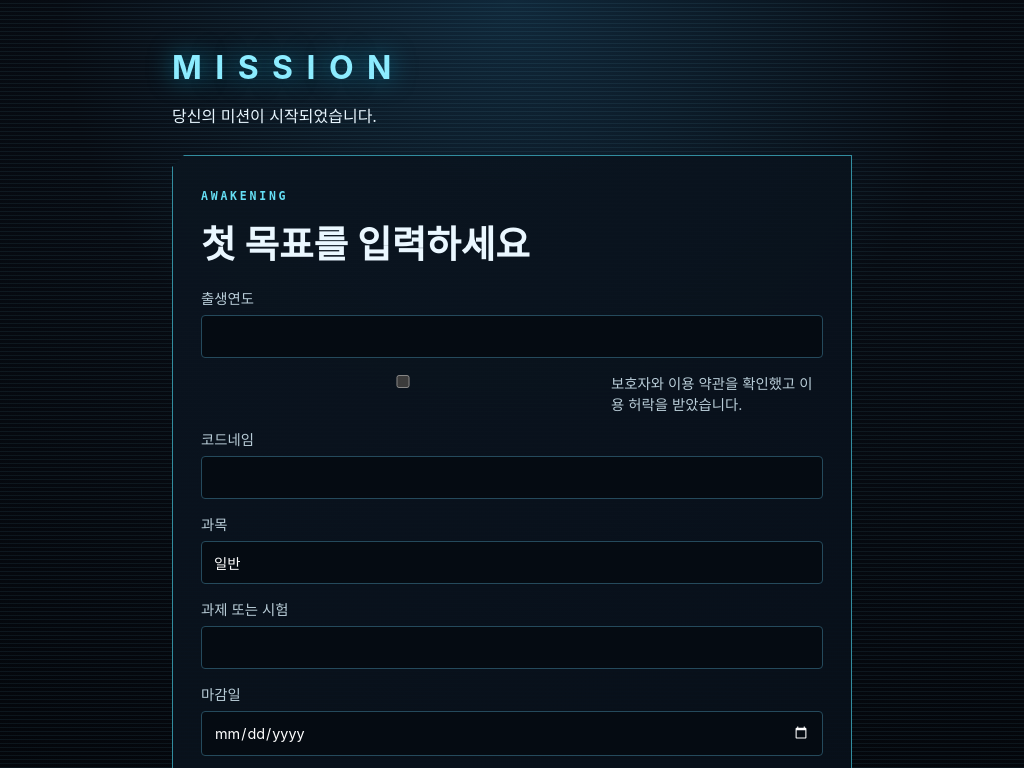
Scenario: preserves goal text and focuses an age error
Type "2011" into the field labelled "출생연도" at (512, 336), box [201,315,823,358]
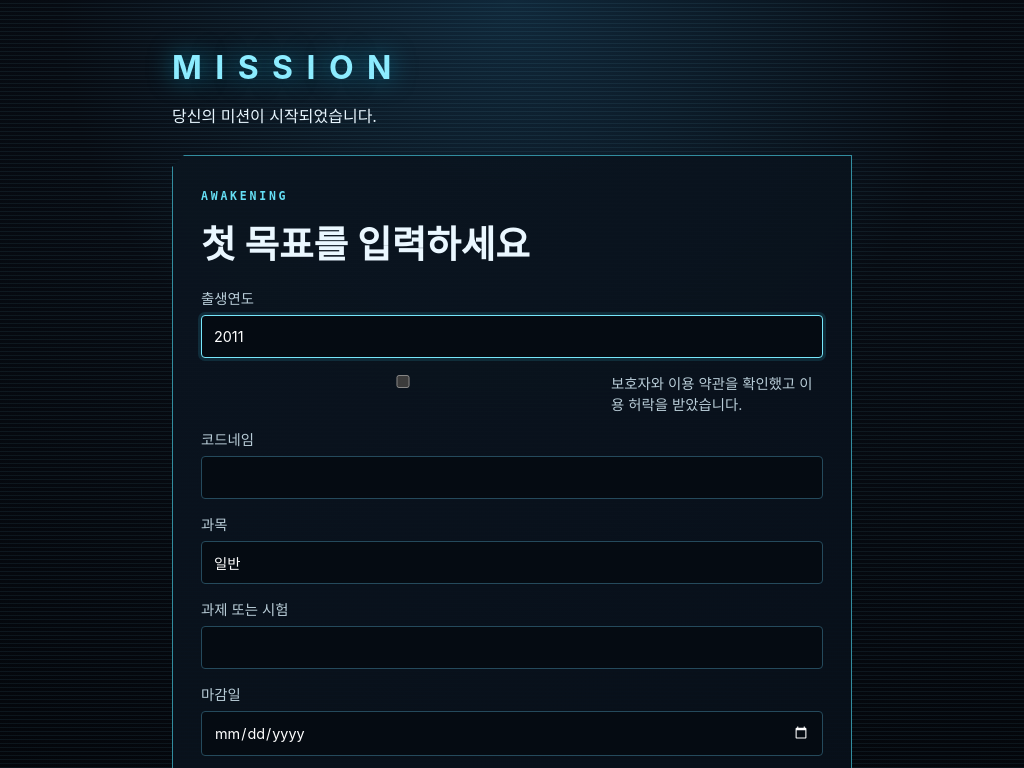
Click the checkbox labelled "보호자와 이용 약관을 확인했고 이용 허락을 받았습니다." at (403, 382), box [205,375,601,388]
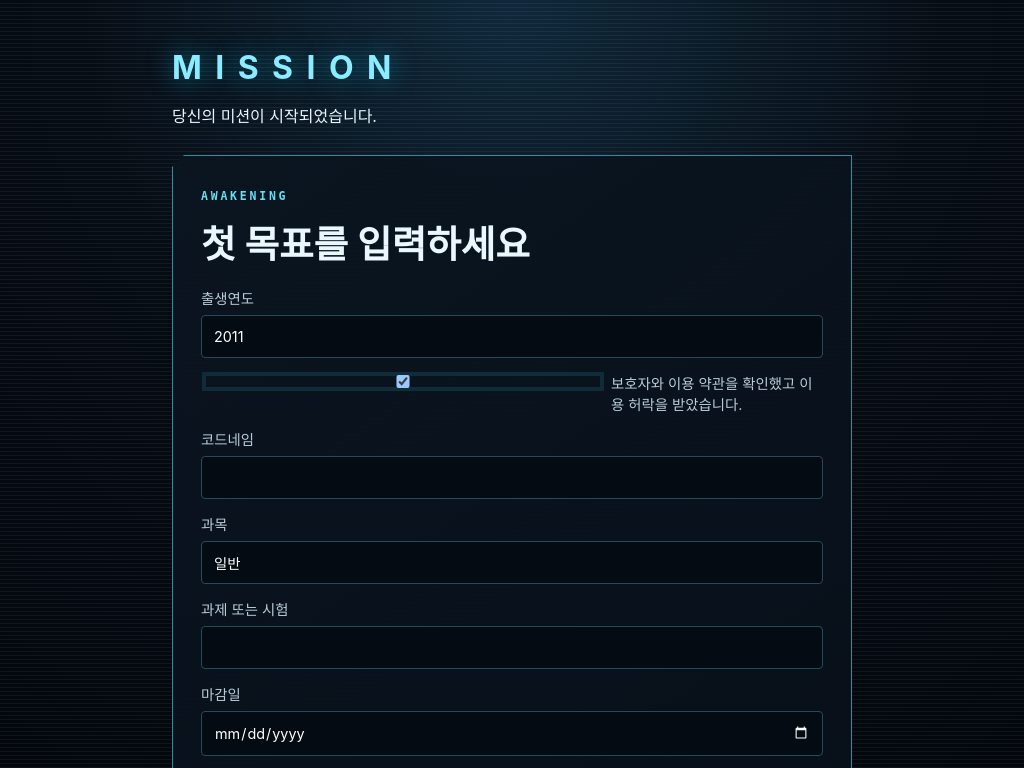
Type "NOVA" into the field labelled "코드네임" at (512, 478), box [201,456,823,499]
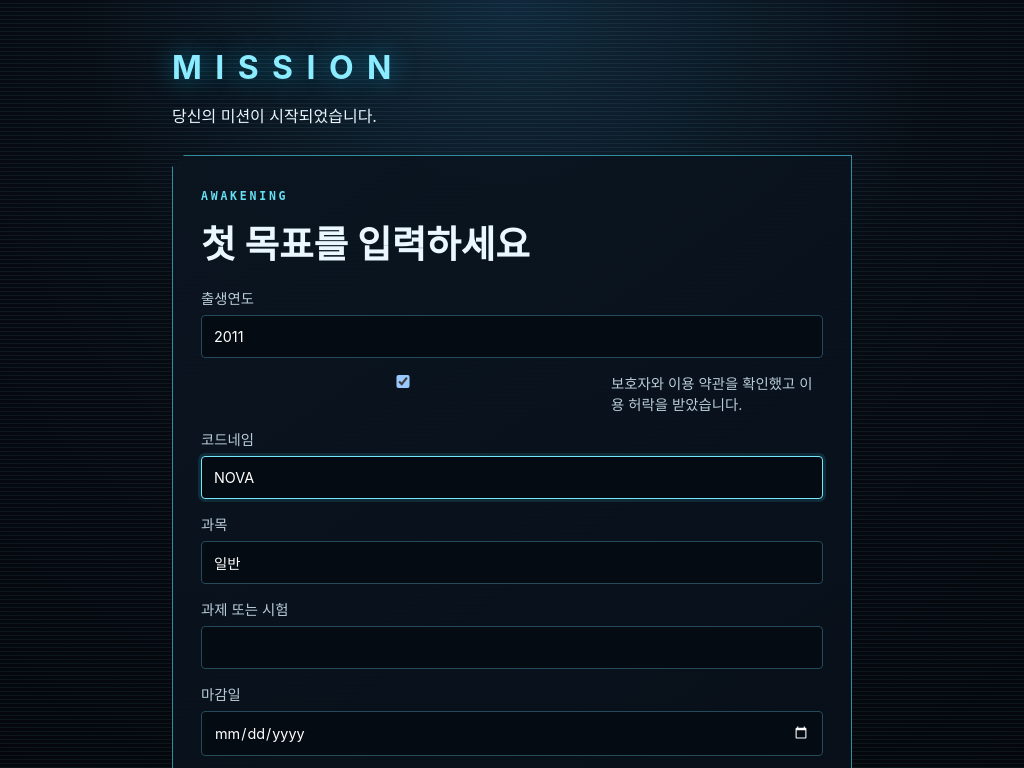
Type "과학 화산 발표" into the field labelled "과제 또는 시험" at (512, 648), box [201,626,823,669]
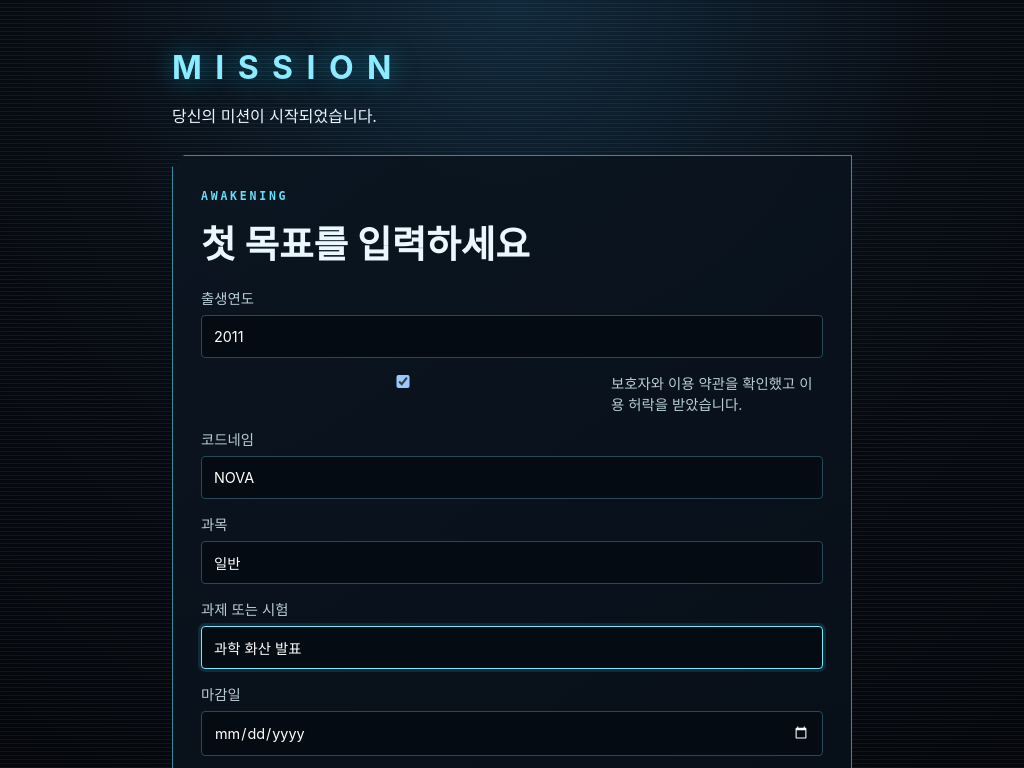
Type "2026-09-01" into the date field labelled "마감일" at (512, 734), box [201,711,823,756]
(page scrolled)
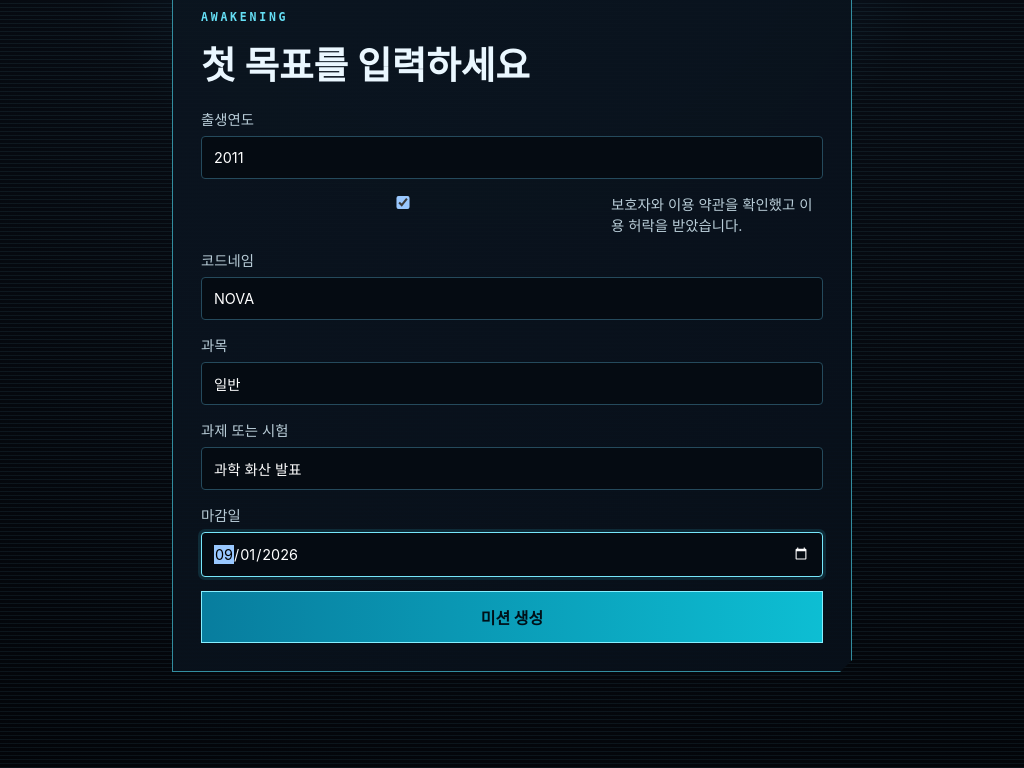
Click the button "미션 생성" at (512, 617), box [201,591,823,643]
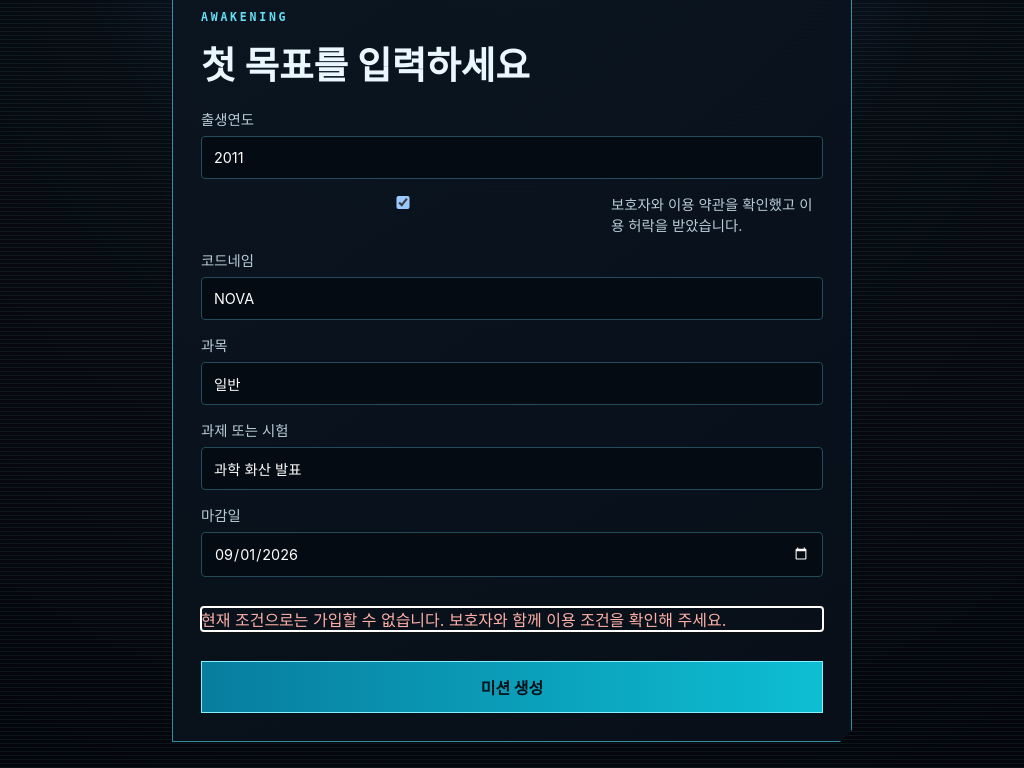
Expected: the message shows "가입할 수 없습니다", [201,610,726,630]
